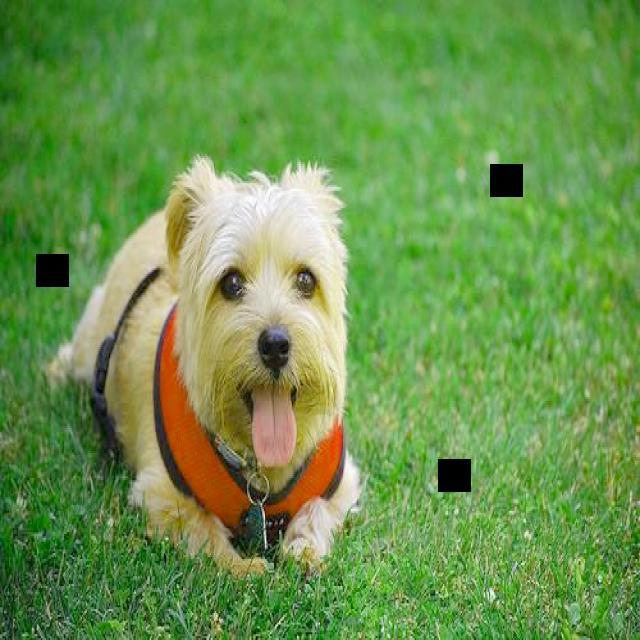adult_dog: (43, 150, 364, 580)
